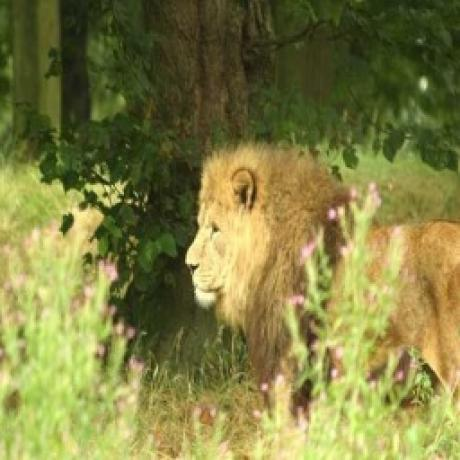Lion: (188, 145, 460, 392)
